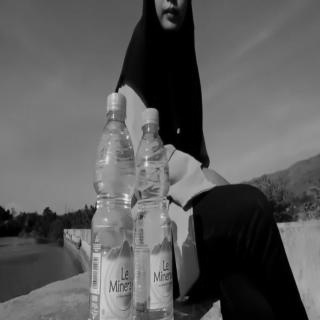plastic_bottles: (88, 94, 135, 320), (132, 108, 174, 320)
